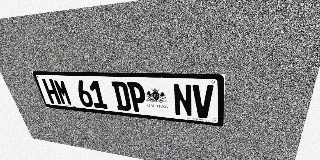1: (87, 80, 108, 109)
6: (74, 80, 94, 108)
D: (111, 81, 132, 111)
H: (42, 79, 62, 104)
M: (53, 79, 73, 106)
N: (172, 83, 193, 117)
P: (127, 82, 148, 113)
V: (192, 84, 213, 119)
